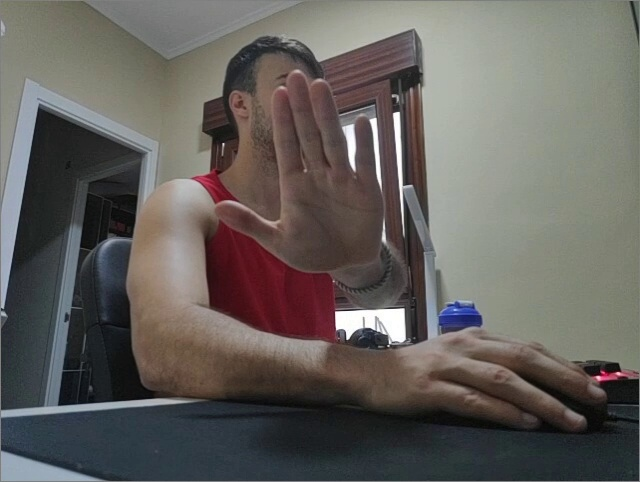Palm: (212, 67, 386, 273)
